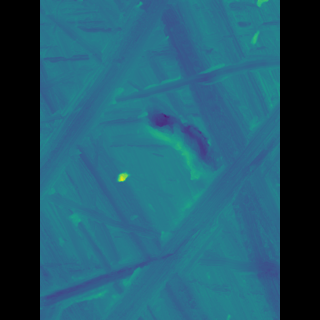Loch: (116, 98, 253, 320), (68, 0, 164, 195), (125, 54, 250, 106)
